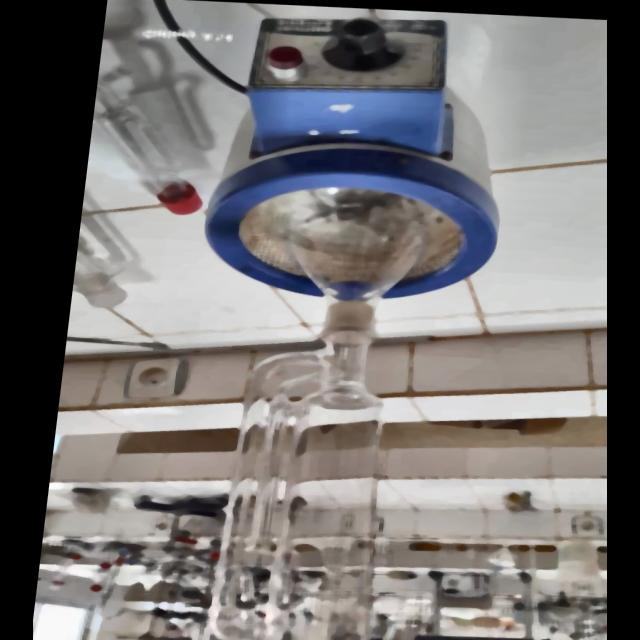Soxhlet: (189, 185, 477, 640)
